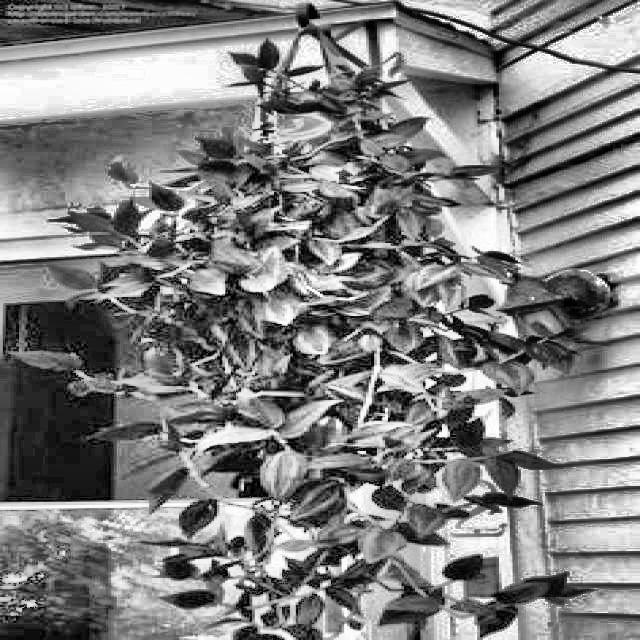plants: (2, 44, 640, 639)
